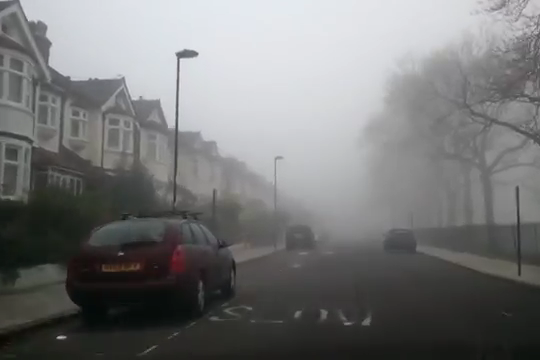car: (60, 208, 239, 312), (379, 227, 420, 256), (283, 224, 316, 250)
